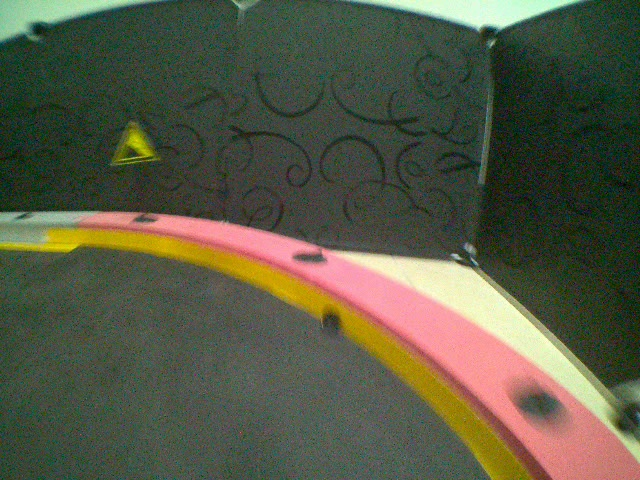fast: (109, 119, 159, 166)
